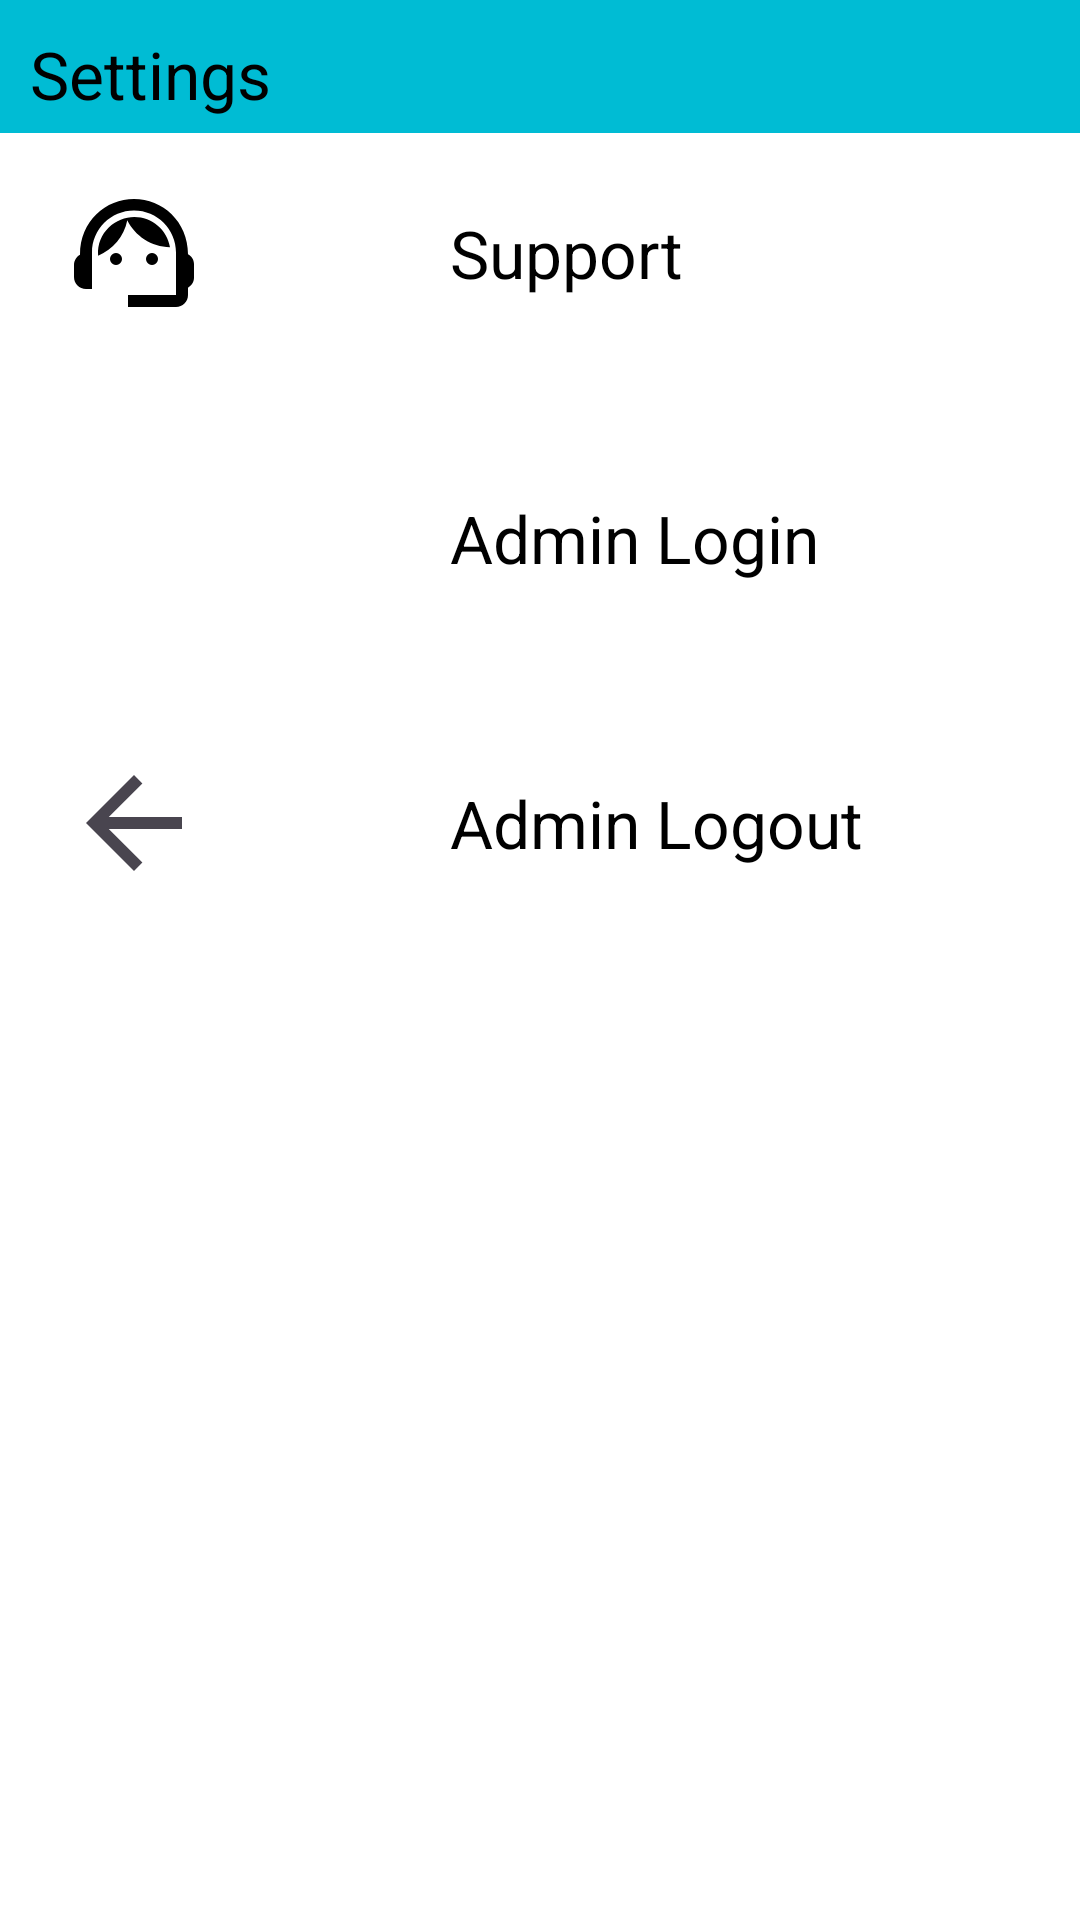

Where to tap for icons on this 1080x1920 app screen, as point (x, y):
support: point (134, 253)
